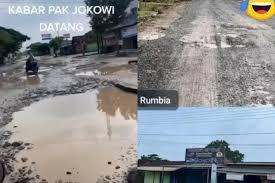Pothole: (1, 83, 138, 183), (182, 35, 265, 55), (136, 8, 184, 40), (209, 16, 274, 33), (68, 64, 135, 79), (11, 68, 47, 83), (66, 52, 96, 62), (0, 68, 8, 77)
